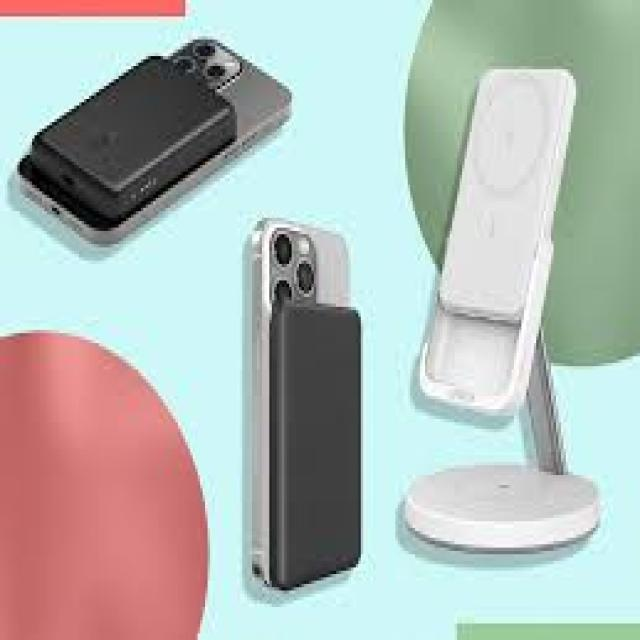power_bank: (32, 52, 240, 230), (437, 59, 576, 324), (268, 296, 370, 592)
